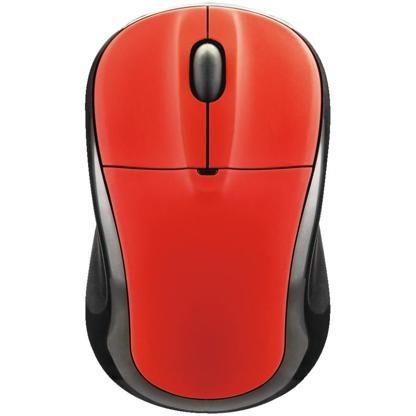not trash: (65, 0, 336, 416)
